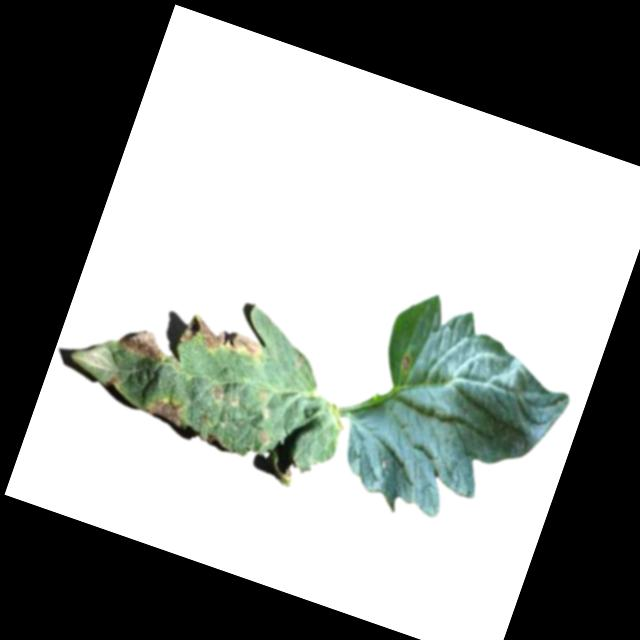Early_blight: (178, 309, 266, 365), (115, 322, 174, 367), (142, 391, 192, 430), (207, 383, 225, 403), (397, 352, 414, 372), (106, 371, 121, 389)
